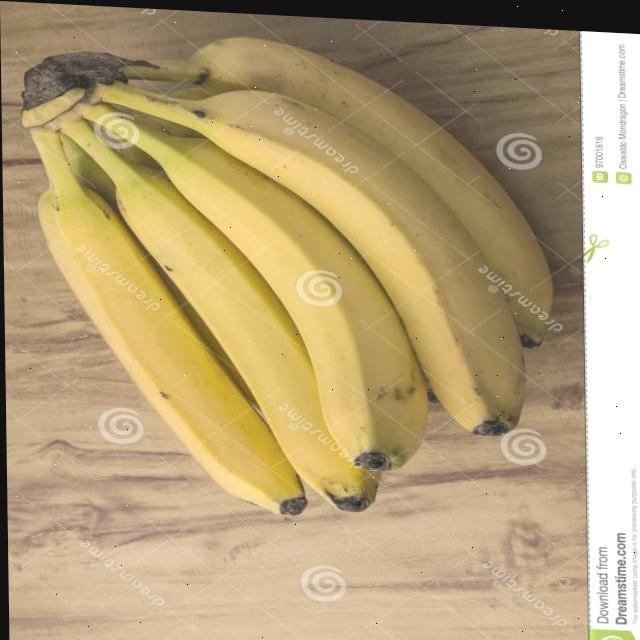banana: (12, 19, 565, 535)
